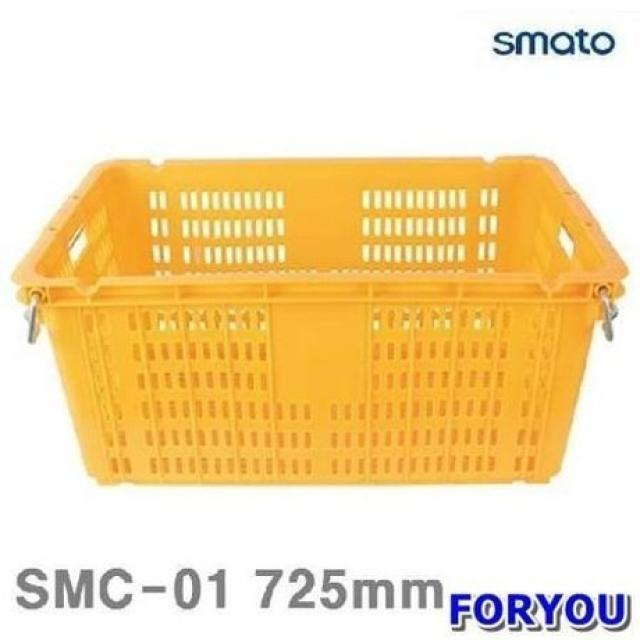basket: (12, 158, 627, 484)
